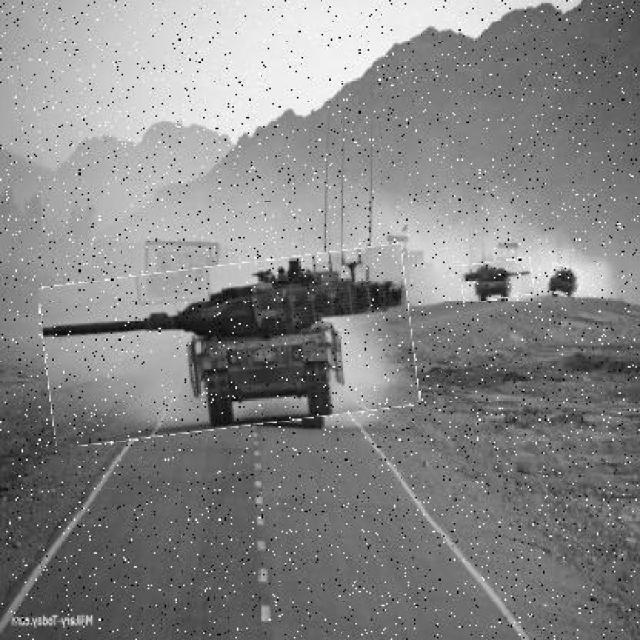Tank: (43, 255, 417, 438), (462, 261, 535, 303), (549, 267, 583, 300)
